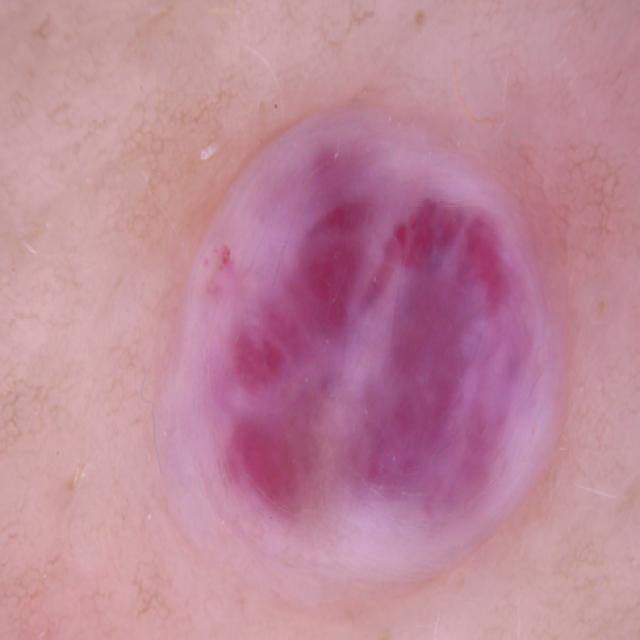Vascular Lesions: (116, 60, 627, 615)
